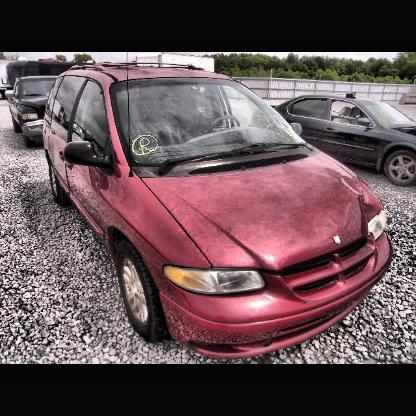Dodge Caravan Minivan 1997: (44, 62, 394, 361)
